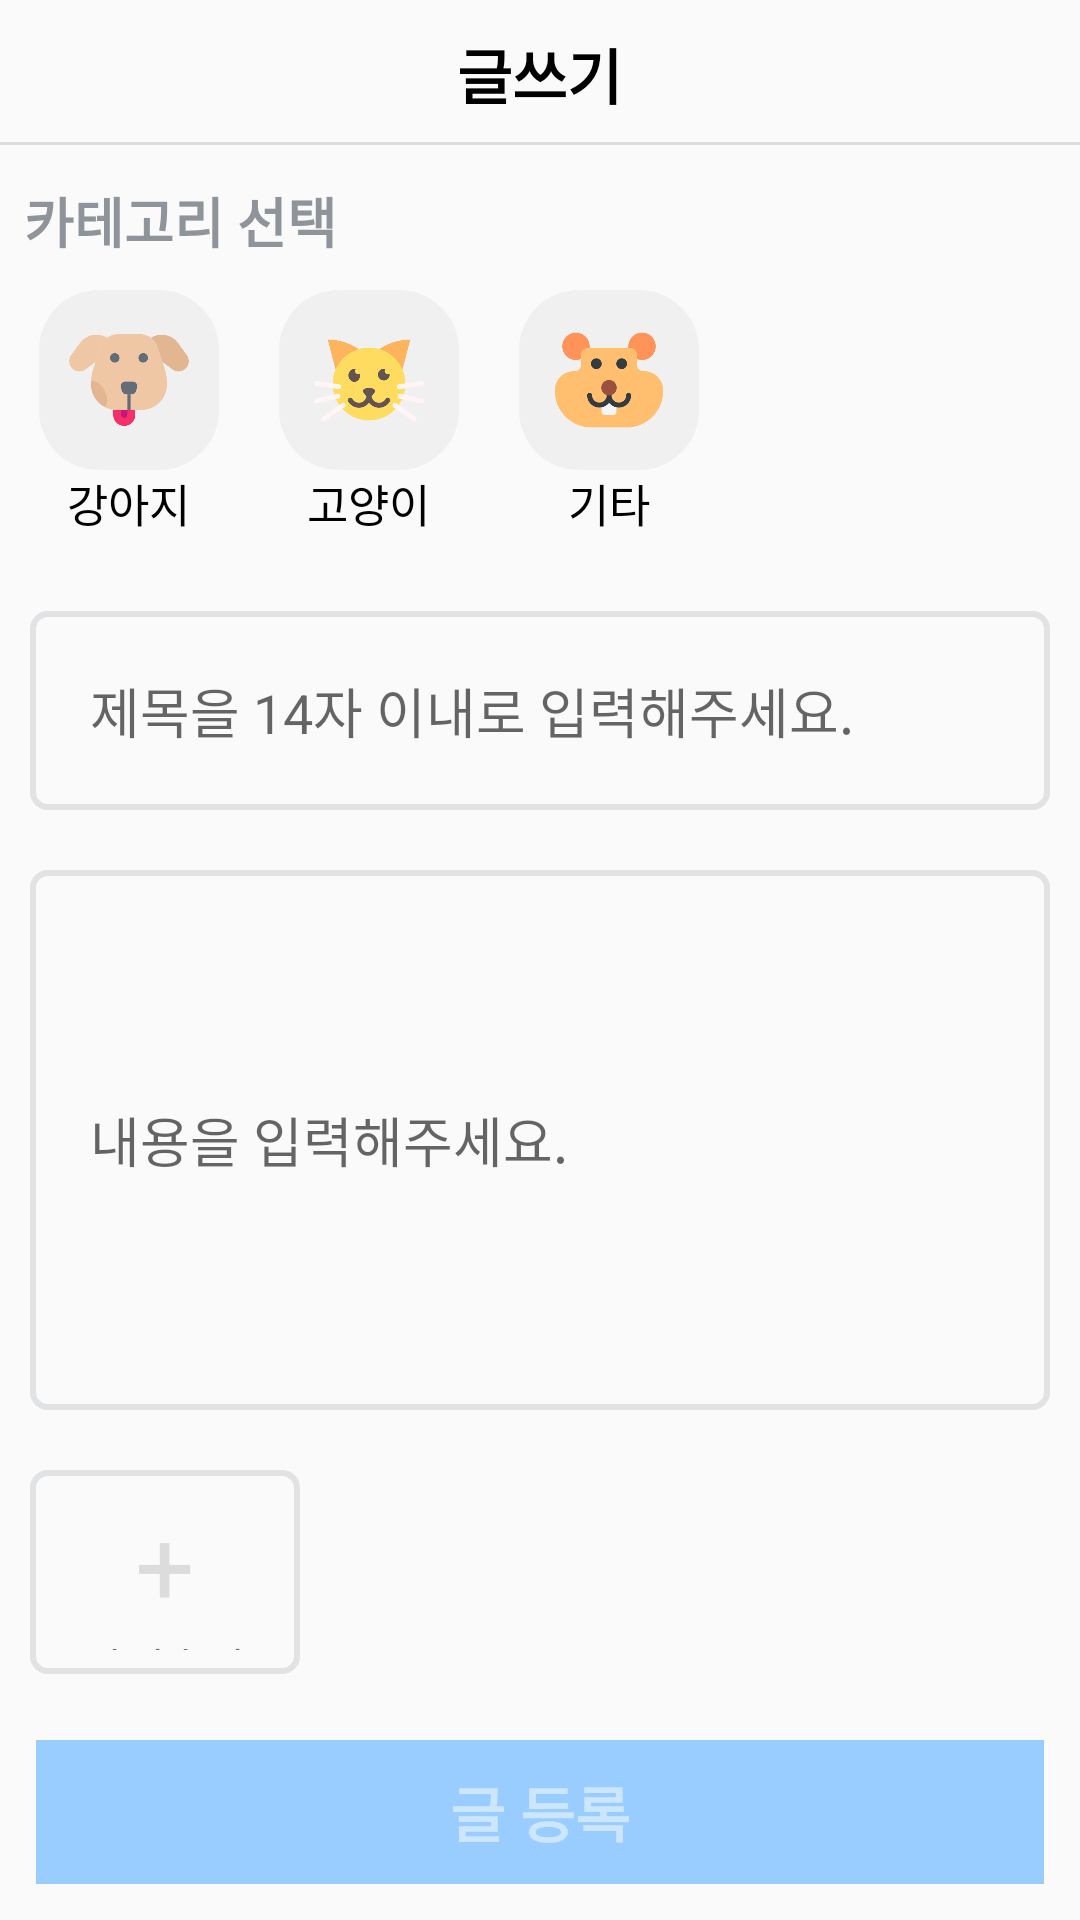

Named icons in this screenshot (1080×1920) and their centers, point (x, y):
cat: point (369, 380)
